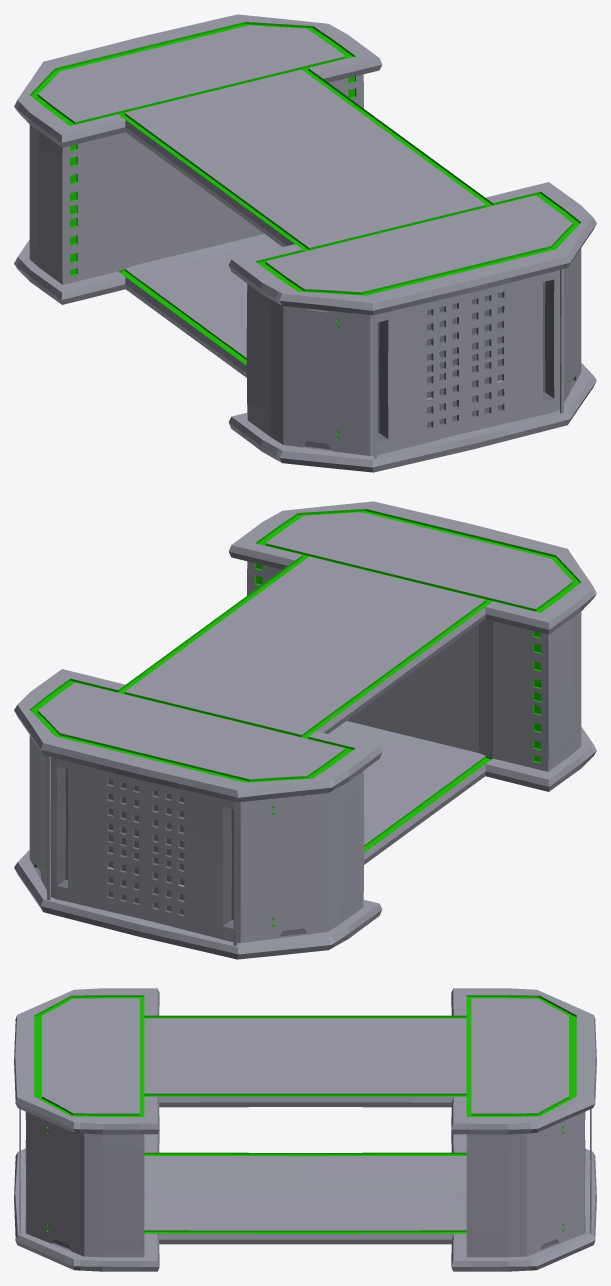
The model's file is TableCounter.fbx.
3 views of the same model, one above another, from view 1: azimuth 30°, elevation 25°; view 2: azimuth 150°, elevation 25°; view 3: azimuth 270°, elevation 25° (orthographic). The views are drawn at different scales.
Visible parts, largest first — view 1: Cube; view 2: Cube; view 3: Cube.
Boxes of the visible parts, left/top/right/bottom form: Cube: left=14, top=14, right=596, bottom=472; Cube: left=14, top=501, right=596, bottom=959; Cube: left=14, top=988, right=596, bottom=1271.
Size of the model in its own units: 149 by 268 by 75.26.
